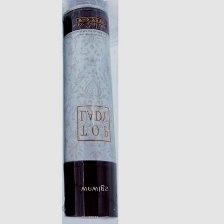aerosol_cans: (56, 3, 120, 220)
